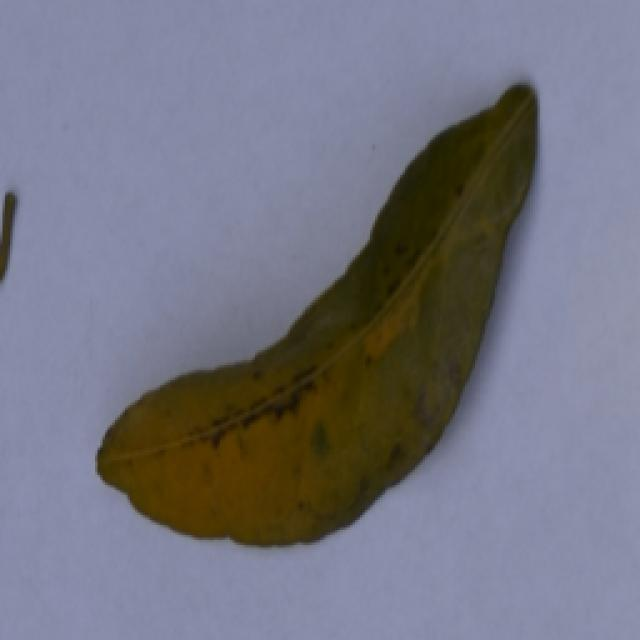blackspot: (78, 69, 585, 594)
